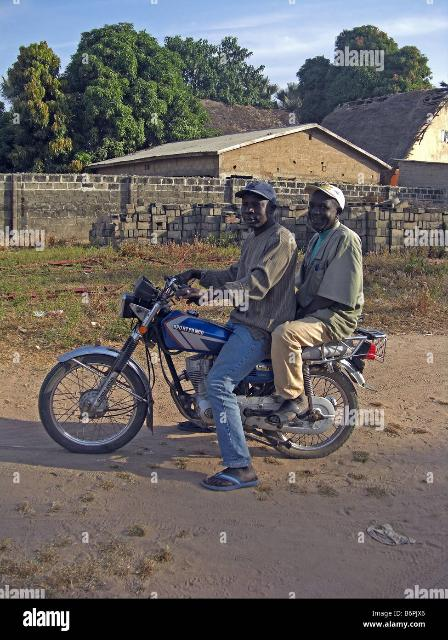motor: (40, 272, 391, 460)
non-helm: (236, 182, 278, 229), (306, 184, 346, 232)
